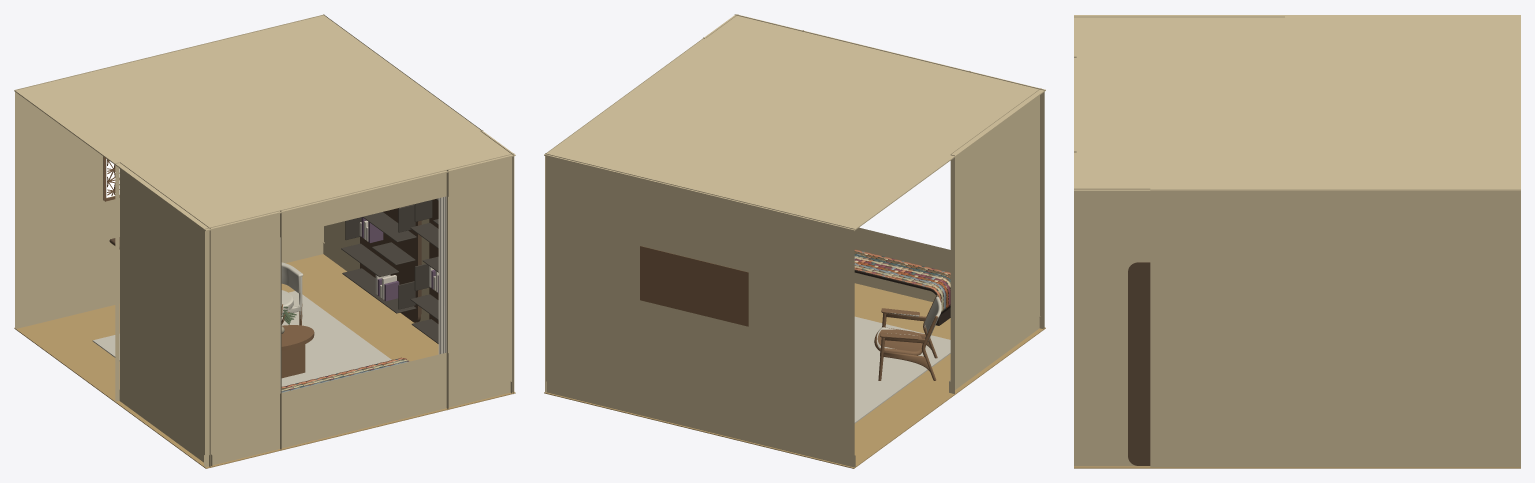
File: formal-2.glb
The picture shows the model from 3 angles, left to right: view 1: azimuth 30°, elevation 25°; view 2: azimuth 150°, elevation 25°; view 3: azimuth 270°, elevation 25°; orthographic projection. The views are drawn at different scales.
Parts seen in each view (by area): view 1: DESIGN | formal removable wall finish, DESIGN | formal ceiling finish, DESIGN | formal floor finish, DESIGN | Required Blabla bookcase 2, DESIGN | Formal ground, DESIGN | Required Blabla bookcase 1, DESIGN | Formal soft window edge.001, DESIGN | Reading settee, DESIGN | Required Brera anniversary window bench, DESIGN | Library low table trestle, DESIGN | Library low table top; view 2: DESIGN | formal removable wall finish, DESIGN | formal ceiling finish, DESIGN | formal floor finish, DESIGN | Quiet artwork frame, DESIGN | Formal ground, DESIGN | Guest reading chair, DESIGN | Required Brera anniversary window bench; view 3: DESIGN | formal removable wall finish, DESIGN | formal ceiling finish, DESIGN | Required Blabla bookcase 1, DESIGN | formal floor finish.
Boxes of the visible parts, bbox=[...] form: DESIGN | formal removable wall finish: bbox=[15, 14, 514, 466]; DESIGN | formal ceiling finish: bbox=[14, 15, 515, 231]; DESIGN | formal floor finish: bbox=[14, 254, 515, 468]; DESIGN | Required Blabla bookcase 2: bbox=[341, 204, 421, 322]; DESIGN | Formal ground: bbox=[92, 291, 391, 386]; DESIGN | Required Blabla bookcase 1: bbox=[410, 198, 438, 343]; DESIGN | Formal soft window edge.001: bbox=[438, 196, 446, 354]; DESIGN | Reading settee: bbox=[281, 262, 303, 325]; DESIGN | Required Brera anniversary window bench: bbox=[281, 357, 409, 392]; DESIGN | Library low table trestle: bbox=[281, 344, 305, 378]; DESIGN | Library low table top: bbox=[281, 325, 314, 350]; DESIGN | formal removable wall finish: bbox=[545, 14, 1044, 467]; DESIGN | formal ceiling finish: bbox=[544, 14, 1045, 231]; DESIGN | formal floor finish: bbox=[544, 283, 1045, 468]; DESIGN | Quiet artwork frame: bbox=[640, 246, 748, 326]; DESIGN | Formal ground: bbox=[854, 316, 950, 423]; DESIGN | Guest reading chair: bbox=[874, 294, 941, 380]; DESIGN | Required Brera anniversary window bench: bbox=[854, 249, 950, 325]; DESIGN | formal removable wall finish: bbox=[1074, 16, 1520, 467]; DESIGN | formal ceiling finish: bbox=[1074, 15, 1520, 191]; DESIGN | Required Blabla bookcase 1: bbox=[1128, 262, 1150, 465]; DESIGN | formal floor finish: bbox=[1074, 466, 1520, 468].
Size of the model in its own units: 3.71 by 2.74 by 3.98.
